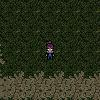Victim: (45, 39, 56, 61)
